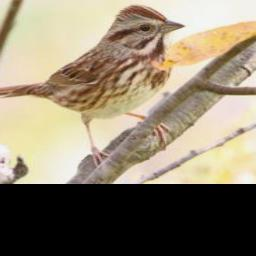Sparrow: (0, 2, 189, 169)
